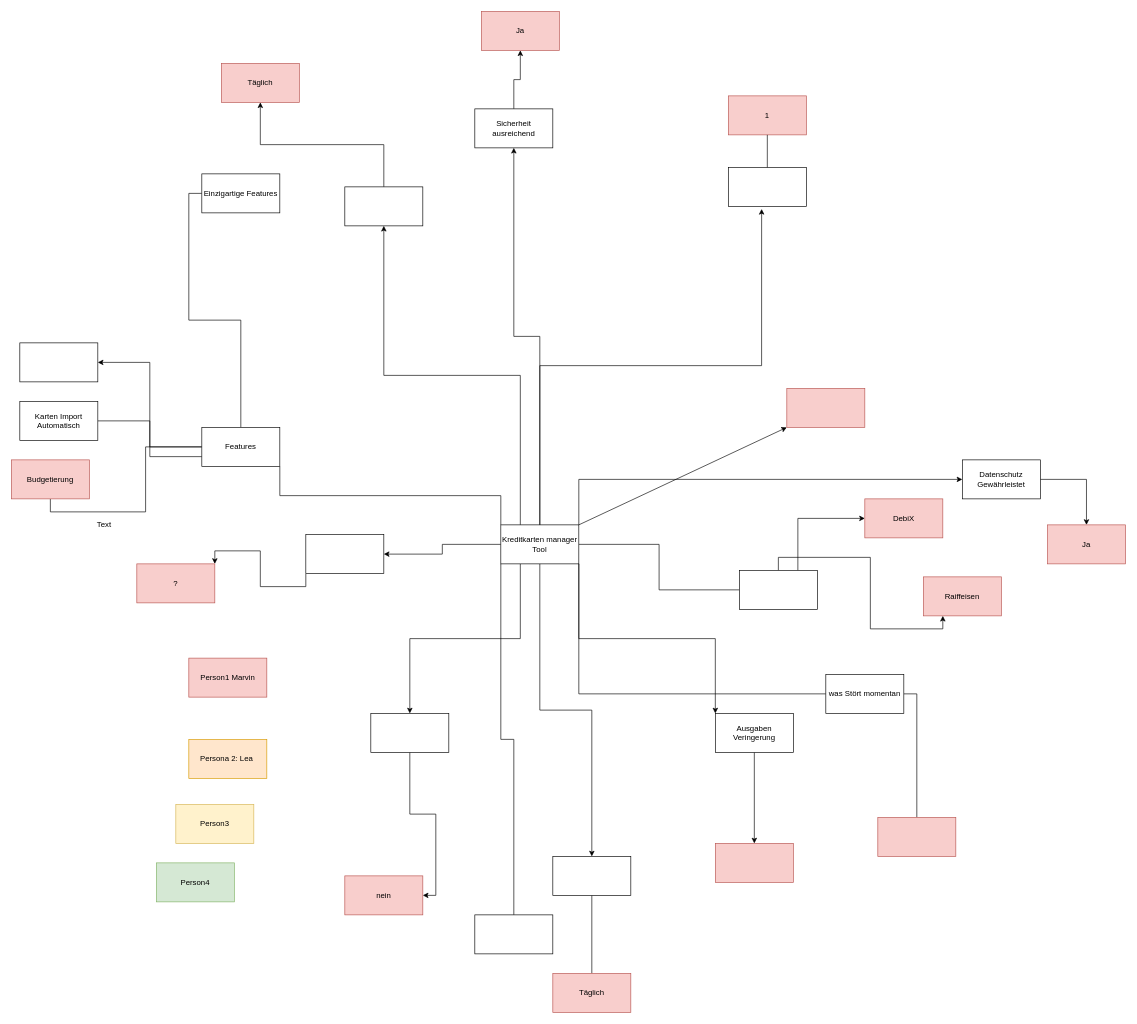
Some shapes in this 1137 by 1024 pixel diagram are drawn without their labels. The centre of each missing label's shape, as x and y in pixels:
Barrierefreie nutztung: point 513,934
Benutztung des Tools: point 591,875
Finazen Apps: point 778,589
Genutzte Karten Momentan: point 767,186
KI Assistent: point 58,362
Netztwerkausfall was tuen: point 344,554
Nutztung des Tools: point 383,206
Sehr Stark: point 754,862
Twint: point 825,407
Wartungen: point 916,836
Wo geht das geld hin: point 409,732
